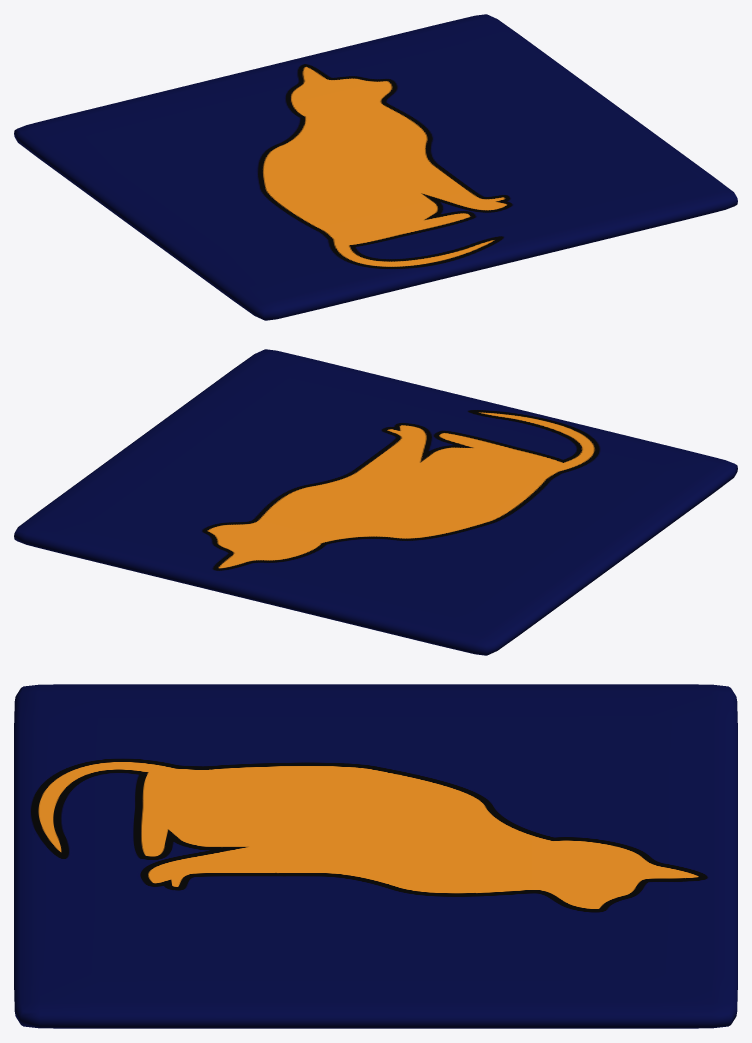
Rendered from KS_Permadani2.fbx.
3 renders of one model, top to bottom at view 1: azimuth 30°, elevation 25°; view 2: azimuth 150°, elevation 25°; view 3: azimuth 270°, elevation 25°, orthographic. The views are drawn at different scales.
Parts seen in each view (by area): view 1: KS_Permadani_2; view 2: KS_Permadani_2; view 3: KS_Permadani_2.
Boxes of the visible parts, <box> form: KS_Permadani_2: <box>14,14,737,320</box>; KS_Permadani_2: <box>14,349,737,655</box>; KS_Permadani_2: <box>14,684,737,1028</box>.
Size of the model in its own units: 218 by 6 by 200.
